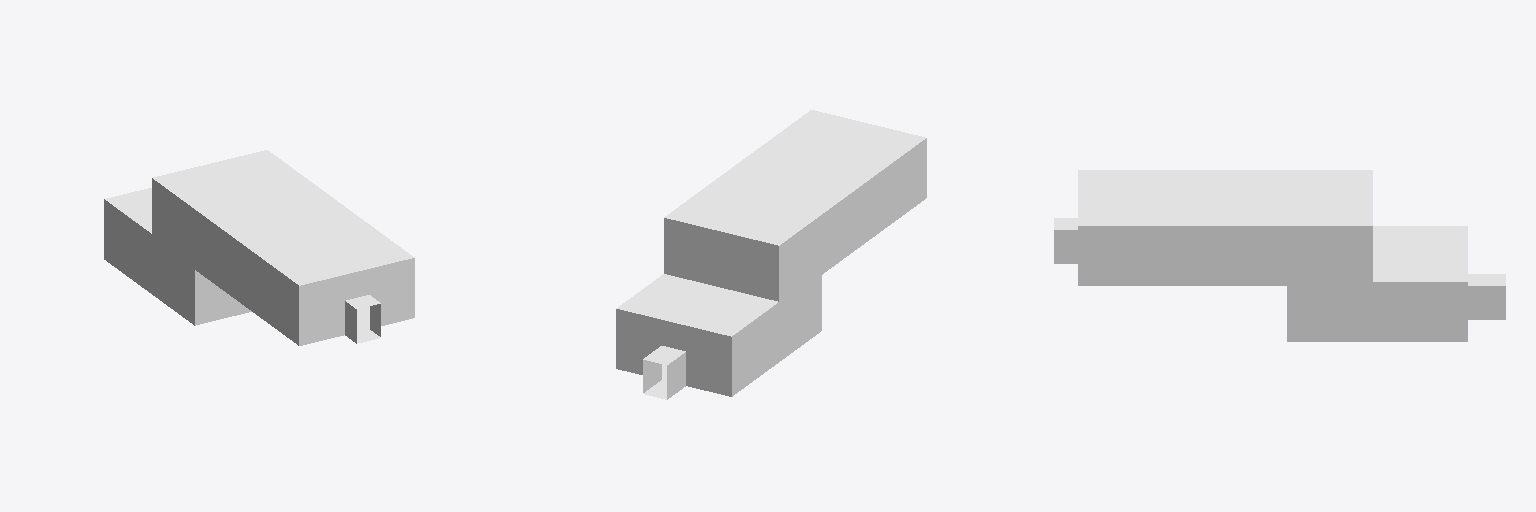
Rendered from room_base3.obj.
The picture shows the model from 3 angles: view 1: azimuth 30°, elevation 25°; view 2: azimuth 150°, elevation 25°; view 3: azimuth 270°, elevation 25°; orthographic projection.
Parts seen in each view (by area): view 1: room_base3; view 2: room_base3; view 3: room_base3.
Boxes of the visible parts, x1=… form: room_base3: x1=104, y1=150, x2=414, y2=345; room_base3: x1=616, y1=110, x2=926, y2=399; room_base3: x1=1054, y1=170, x2=1505, y2=341.
Size of the model in its own units: 14 by 13.5 by 47.5.